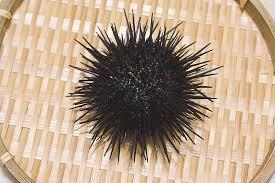urchin: (66, 9, 215, 159)
